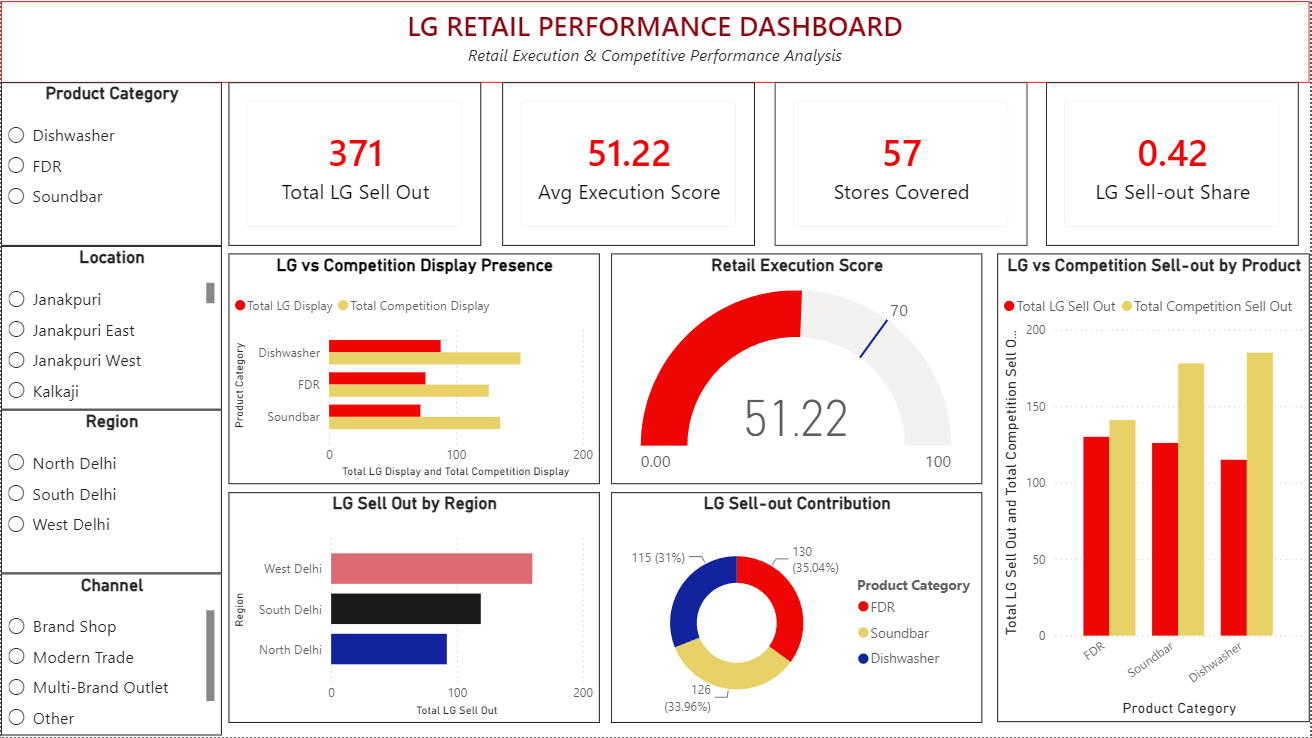

This screenshot's page, from the dashboard's own definition file:
{"tool":"powerbi","page":{"name":"Dashboard","canvas":[1280,720],"ordinal":0},"visuals":[{"type":"textbox","box":[0,0,1280,80],"z":0},{"type":"listSlicer","fields":{"Values":["PowerBI_Data.Product Category"]},"box":[0,80,215.7,160],"z":1000},{"type":"listSlicer","fields":{"Values":["PowerBI_Data.Region"]},"box":[0,400,215.7,160],"z":2000},{"type":"listSlicer","fields":{"Values":["PowerBI_Data.Channel"]},"box":[0,560,215.7,158.6],"z":3000},{"type":"listSlicer","fields":{"Values":["PowerBI_Data.Location"]},"box":[0,240,215.7,160],"z":4000},{"type":"cardVisual","fields":{"Data":["PowerBI_Data.Total LG Sell Out"]},"box":[222.9,80,247.1,160],"z":5000},{"type":"cardVisual","fields":{"Data":["PowerBI_Data.LG Sell-out Share"]},"box":[1022.9,80,247.1,160],"z":6000},{"type":"donutChart","title":"LG Sell-out Contribution","fields":{"Y":["PowerBI_Data.Total LG Sell Out"],"Category":["PowerBI_Data.Product Category"]},"box":[597.1,480,362.9,225.7],"z":7000},{"type":"clusteredColumnChart","title":"LG vs Competition Sell-out by Product","fields":{"Category":["PowerBI_Data.Product Category"],"Y":["PowerBI_Data.Total LG Sell Out","PowerBI_Data.Total Competition Sell Out"]},"box":[974.3,247.1,305.7,458.6],"z":8000},{"type":"clusteredBarChart","title":"LG vs Competition Display Presence","fields":{"Category":["PowerBI_Data.Product Category"],"Y":["PowerBI_Data.Total LG Display","PowerBI_Data.Total Competition Display"]},"box":[222.9,247.1,362.9,225.7],"z":9000},{"type":"clusteredBarChart","title":"LG Sell Out by Region","fields":{"Category":["PowerBI_Data.Region"],"Y":["PowerBI_Data.Total LG Sell Out"]},"box":[222.9,480,362.9,225.7],"z":10000},{"type":"cardVisual","fields":{"Data":["PowerBI_Data.Avg Execution Score"]},"box":[490,80,247.1,160],"z":11000},{"type":"gauge","title":"Retail Execution Score","fields":{"Y":["PowerBI_Data.Avg Execution Score"],"MaxValue":["PowerBI_Data.Execution Target"],"TargetValue":["PowerBI_Data.Execution Target1"]},"box":[597.1,247.1,362.9,225.7],"z":12000},{"type":"cardVisual","fields":{"Data":["PowerBI_Data.Stores Covered"]},"box":[757.1,80,247.1,160],"z":13000}]}

Visuals, with their boxes in screenshot pixels (x1, y1, x2, y2), scaled from the page's 1280x720 canvas onto the 1312x738 screenshot:
textbox: bbox=[0, 0, 1311, 82]
listSlicer - PowerBI_Data.Product Category: bbox=[0, 82, 221, 246]
listSlicer - PowerBI_Data.Region: bbox=[0, 410, 221, 574]
listSlicer - PowerBI_Data.Channel: bbox=[0, 574, 221, 737]
listSlicer - PowerBI_Data.Location: bbox=[0, 246, 221, 410]
cardVisual - PowerBI_Data.Total LG Sell Out: bbox=[228, 82, 482, 246]
cardVisual - PowerBI_Data.LG Sell-out Share: bbox=[1048, 82, 1302, 246]
"LG Sell-out Contribution" donutChart: bbox=[612, 492, 984, 723]
"LG vs Competition Sell-out by Product" clusteredColumnChart: bbox=[999, 253, 1311, 723]
"LG vs Competition Display Presence" clusteredBarChart: bbox=[228, 253, 600, 485]
"LG Sell Out by Region" clusteredBarChart: bbox=[228, 492, 600, 723]
cardVisual - PowerBI_Data.Avg Execution Score: bbox=[502, 82, 756, 246]
"Retail Execution Score" gauge: bbox=[612, 253, 984, 485]
cardVisual - PowerBI_Data.Stores Covered: bbox=[776, 82, 1029, 246]
